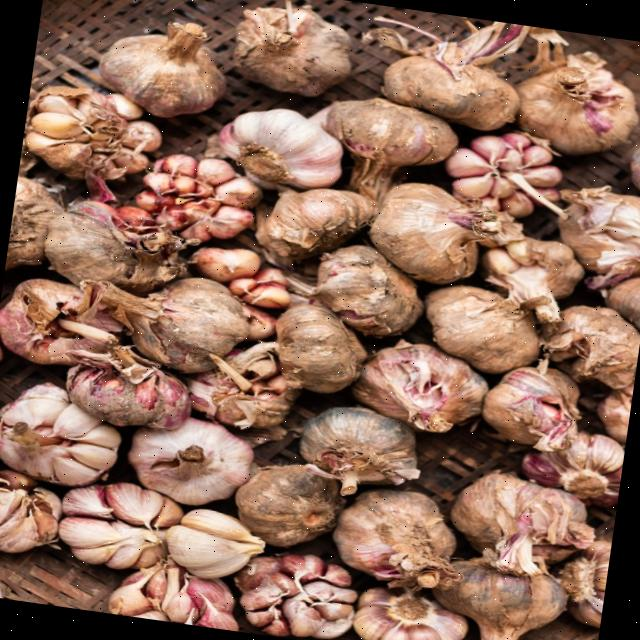garlic: (314, 186, 639, 448), (28, 24, 228, 183), (77, 278, 248, 373), (451, 472, 594, 577), (44, 201, 194, 295), (325, 98, 458, 201), (333, 489, 460, 590), (515, 51, 637, 155), (0, 383, 120, 487), (433, 558, 567, 640), (128, 418, 253, 505), (60, 482, 184, 569), (381, 55, 520, 131), (299, 407, 418, 495), (238, 9, 353, 100), (234, 554, 357, 639), (219, 109, 342, 189), (235, 465, 345, 547), (256, 188, 376, 259), (558, 186, 640, 289), (66, 363, 190, 430), (274, 304, 366, 393), (445, 134, 555, 208), (164, 509, 264, 579), (0, 488, 60, 553), (381, 624, 408, 640), (0, 471, 29, 485)
